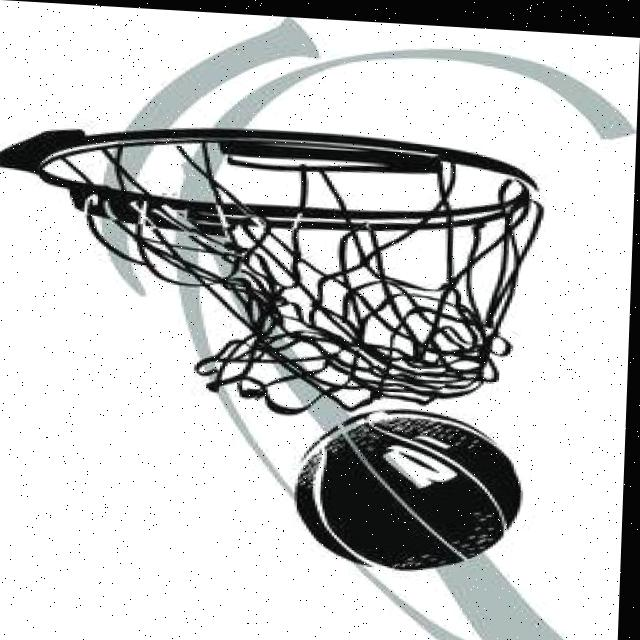Basketball: (292, 403, 526, 580)
hoop: (0, 114, 548, 430)
